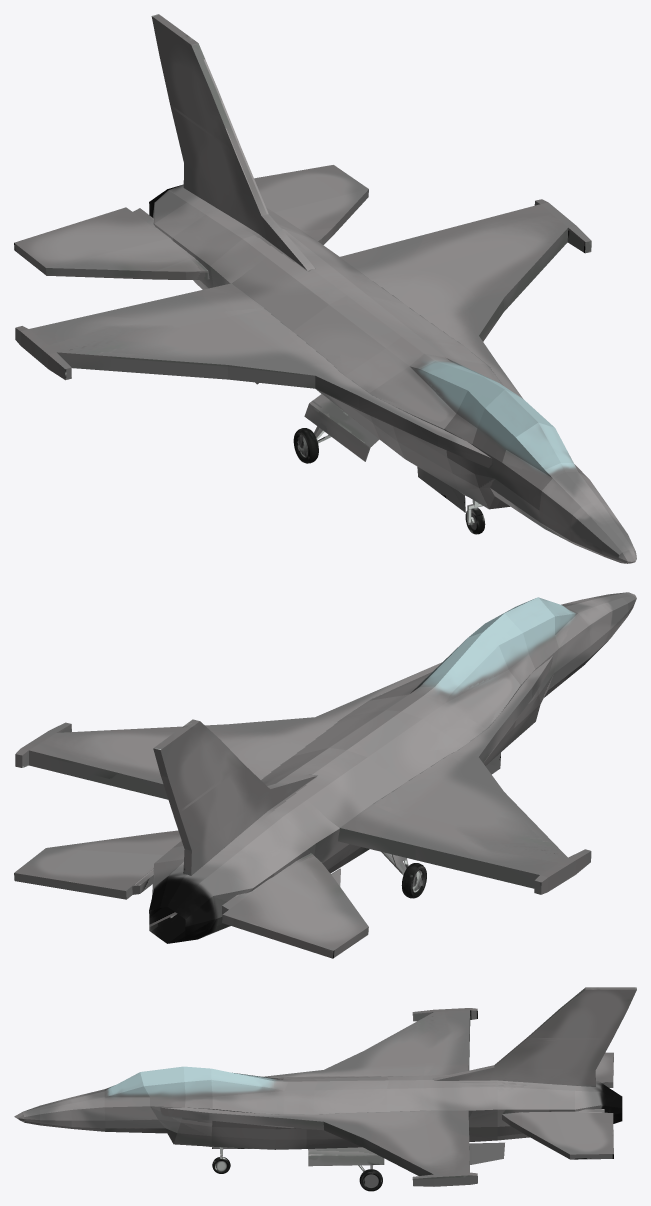
The model's file is f-16-FLATSHADE.gltf.
3 views of the same model, one above another, from view 1: azimuth 30°, elevation 25°; view 2: azimuth 150°, elevation 25°; view 3: azimuth 270°, elevation 25° (orthographic). The views are drawn at different scales.
Visible parts, largest first — view 1: f16; view 2: f16; view 3: f16.
Boxes of the visible parts, left/top/right/bottom form: f16: left=14, top=14, right=636, bottom=563; f16: left=14, top=592, right=636, bottom=958; f16: left=14, top=987, right=636, bottom=1191.
Size of the model in its own units: 15.24 by 7.84 by 23.95.
Materials: 1 (1 with a texture image).
